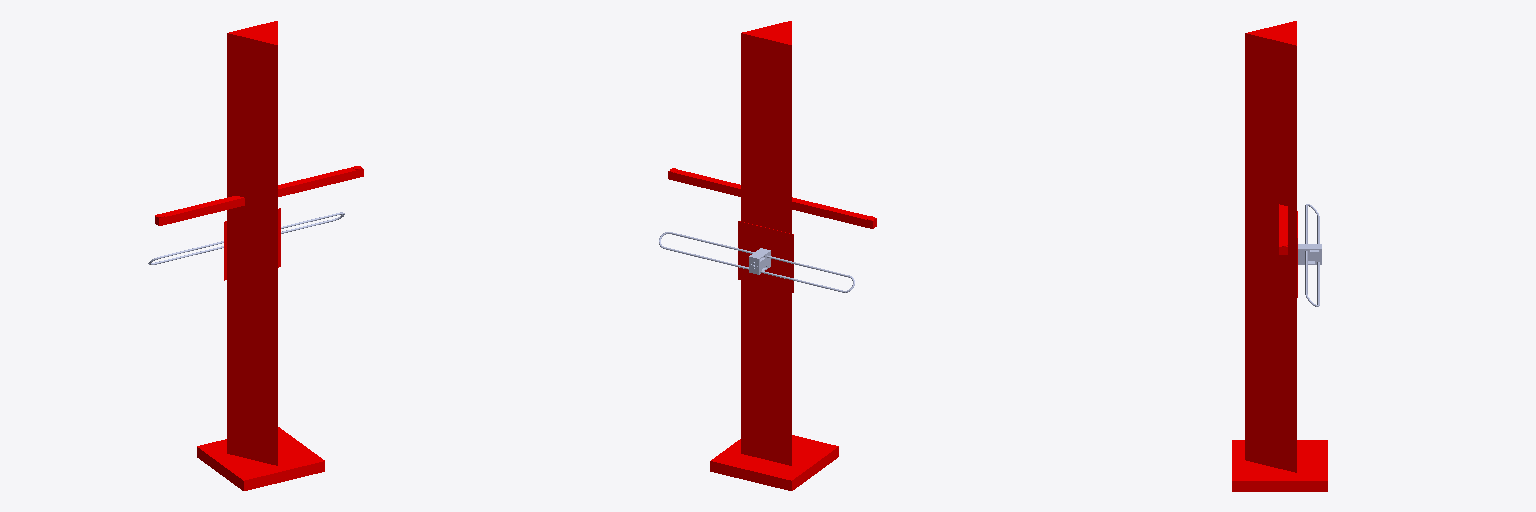
The robot description file, URDF, robot "mast":
<?xml version="1.0" encoding="utf-8"?>
<!-- This URDF was automatically created by SolidWorks to URDF Exporter! Originally created by [author] ([email redacted]) 
     Commit Version: 1.5.1-0-g916b5db  Build Version: 1.5.7152.31018
     For more information, please see http://wiki.ros.org/sw_urdf_exporter -->

<robot
  name="mast">
  <gazebo reference="base_link">
    <material>Gazebo/White</material>
  </gazebo>

  <gazebo reference="antenna">
    <material>Gazebo/White</material>
  </gazebo>

  <gazebo reference="text_board">
    <material>Gazebo/SkyBlue</material>
  </gazebo>

  <gazebo reference="module">
    <material>Gazebo/Blue</material>
  </gazebo>
  <link
    name="base_link">
    <inertial>
      <!--origin
        xyz="1.57231279445662 1.16826490935591 1.0142456618496"
        rpy="0 0 0" /-->
      <origin
        xyz="0 0 0"
        rpy="0 0 0" />
      <mass
        value="65.5165337831978" />
      <inertia
        ixx="26.7646926377253"
        ixy="1.41755552395388E-15"
        ixz="1.03856046916512E-15"
        iyy="26.660422011733156"
        iyz="0.00670710881987373"
        izz="26.8926403606603" />
    </inertial>
    <visual>
      <origin
        xyz="0 0 0"
        rpy="0 0 0" />
      <geometry>
        <mesh
          filename="package://mast/meshes/base_link.STL" />
      </geometry>
      <material
        name="">
        <color
          rgba="1 0 0 1" />
      </material>
    </visual>
    <collision>
      <origin
        xyz="0 0 0"
        rpy="0 0 0" />
      <geometry>
        <mesh
          filename="package://mast/meshes/base_link.STL" />
      </geometry>
    </collision>
  </link>
  <link
    name="text_board">
    <inertial>
      <origin
        xyz="-6.88338275267597E-15 0 0.00127000000001165"
        rpy="0 0 0" />
      <mass
        value="0.198283474399999" />
      <inertia
        ixx="0.00129001264777298"
        ixy="3.98191418820427E-19"
        ixz="-2.32763673216149E-35"
        iyy="0.00129001264777298"
        iyz="1.36369182639754E-21"
        izz="0.00257981208793538" />
    </inertial>
    <visual>
      <origin
        xyz="0 0 0"
        rpy="0 0 0" />
      <geometry>
        <mesh
          filename="package://mast/meshes/text_board.STL" />
      </geometry>
      <material
        name="">
        <color
          rgba="1 0 0 1" />
      </material>
    </visual>
    <collision>
      <origin
        xyz="0 0 0"
        rpy="0 0 0" />
      <geometry>
        <mesh
          filename="package://mast/meshes/text_board.STL" />
      </geometry>
    </collision>
  </link>
  <joint
    name="text_board_joint"
    type="fixed">
    <origin
      xyz="1.5723 -0.93868 1.2601"
      rpy="1.5708 0 0" />
    <parent
      link="base_link" />
    <child
      link="text_board" />
    <axis
      xyz="0 0 0" />
  </joint>
  <link
    name="module_holder">
    <inertial>
      <origin
        xyz="-1.11022302462516E-15 -4.44089209850063E-16 0.0197263635737698"
        rpy="0 0 0" />
      <mass
        value="0.11214039511857" />
      <inertia
        ixx="9.70687893984366E-05"
        ixy="9.26413928290601E-21"
        ixz="2.03837798305907E-18"
        iyy="7.06380938728365E-05"
        iyz="8.33731470496252E-19"
        izz="7.12797207192067E-05" />
    </inertial>
    <visual>
      <origin
        xyz="0 0 0"
        rpy="0 0 0" />
      <geometry>
        <mesh
          filename="package://mast/meshes/module_holder.STL" />
      </geometry>
      <material
        name="">
        <color
          rgba="0.792156862745098 0.819607843137255 0.933333333333333 1" />
      </material>
    </visual>
    <collision>
      <origin
        xyz="0 0 0"
        rpy="0 0 0" />
      <geometry>
        <mesh
          filename="package://mast/meshes/module_holder.STL" />
      </geometry>
    </collision>
  </link>
  <joint
    name="module_holder_joint"
    type="fixed">
    <origin
      xyz="0 0 0"
      rpy="3.1416 0 3.1416" />
    <parent
      link="text_board" />
    <child
      link="module_holder" />
    <axis
      xyz="0 0 0" />
  </joint>
  <link
    name="module">
    <inertial>
      <origin
        xyz="-4.37322122751604E-05 0 -4.37322122752715E-05"
        rpy="0 0 0" />
      <mass
        value="0.210240234105137" />
      <inertia
        ixx="0.000144964399274192"
        ixy="-1.76929758895263E-19"
        ixz="7.69893142388258E-06"
        iyy="0.000210860549972284"
        iyz="8.2443061928399E-20"
        izz="0.00016320845177539" />
    </inertial>
    <visual>
      <origin
        xyz="0 0 0"
        rpy="0 0 0" />
      <geometry>
        <mesh
          filename="package://mast/meshes/module.STL" />
      </geometry>
      <material
        name="">
        <color
          rgba="0.792156862745098 0.819607843137255 0.933333333333333 1" />
      </material>
    </visual>
    <collision>
      <origin
        xyz="0 0 0"
        rpy="0 0 0" />
      <geometry>
        <mesh
          filename="package://mast/meshes/module.STL" />
      </geometry>
    </collision>
  </link>
  <joint
    name="module_joint"
    type="fixed">
    <origin
      xyz="0 0 0.0635"
      rpy="1.5708 1.5708 0" />
    <parent
      link="module_holder" />
    <child
      link="module" />
    <axis
      xyz="0 0 0" />
  </joint>
  <link
    name="antenna">
    <inertial>
      <origin
        xyz="-0.00127000000036226 0.444499999999976 0.00127000000041344"
        rpy="0 0 0" />
      <mass
        value="0.146772870770587" />
      <inertia
        ixx="0.0123105530910958"
        ixy="3.60244187229331E-19"
        ixz="-9.11310607191615E-05"
        iyy="0.000183971311773103"
        iyz="-8.47718654911363E-17"
        izz="0.0123105530910904" />
    </inertial>
    <visual>
      <origin
        xyz="0 0 0"
        rpy="0 0 0" />
      <geometry>
        <mesh
          filename="package://mast/meshes/antenna.STL" />
      </geometry>
      <material
        name="">
        <color
          rgba="0.792156862745098 0.819607843137255 0.933333333333333 1" />
      </material>
    </visual>
    <collision>
      <origin
        xyz="0 0 0"
        rpy="0 0 0" />
      <geometry>
        <mesh
          filename="package://mast/meshes/antenna.STL" />
      </geometry>
    </collision>
  </link>
  <joint
    name="antenna_joint"
    type="fixed">
    <origin
      xyz="-3.8441E-05 -0.45312 0.00011044"
      rpy="0 1.5694 0" />
    <parent
      link="module" />
    <child
      link="antenna" />
    <axis
      xyz="0 0 0" />
  </joint>
</robot>

--- Facts derived from the render (not from the file) ---
3 views of the same robot in one strip: view 1: azimuth 30°, elevation 25°; view 2: azimuth 150°, elevation 25°; view 3: azimuth 270°, elevation 25° (orthographic).
Model mast with 5 links and 4 joints (4 fixed), rooted at base_link, posed all joints at 0.
Links seen in each view (by area): view 1: base_link, antenna; view 2: base_link, text_board, antenna; view 3: base_link, antenna.
Link boxes in pixels (x1,y1,x2,y2): base_link: (155, 21, 363, 490); antenna: (148, 212, 344, 264); base_link: (668, 21, 876, 490); text_board: (738, 221, 793, 292); antenna: (659, 232, 854, 292); base_link: (1232, 21, 1327, 491); antenna: (1305, 204, 1319, 306).
Size in the robot's own frame: 1.02 by 0.4064 by 2.05 metres.
5 mesh visuals loaded from 5 distinct referenced files (5 binary STL).